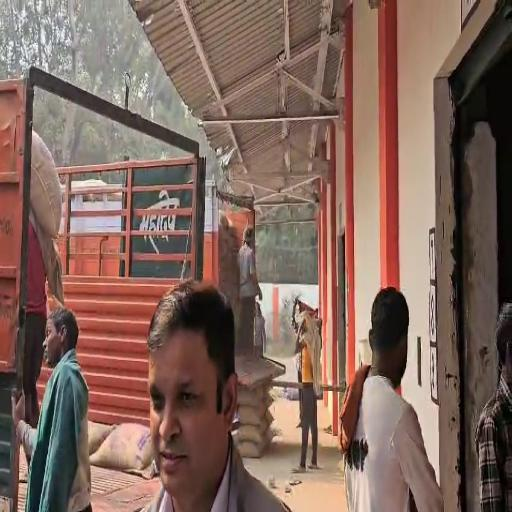bag: (29, 124, 65, 244)
